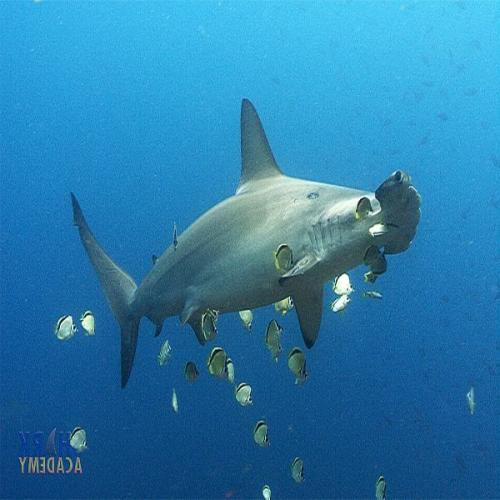shark-endangered: (71, 99, 420, 387)
